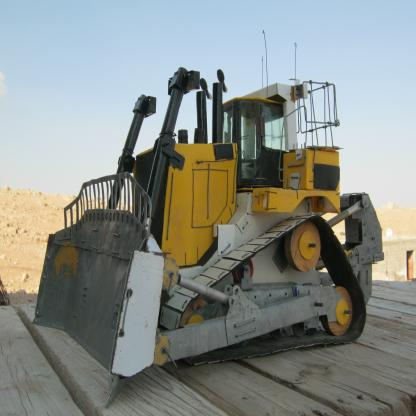bull_dozer/loader/grader: (29, 48, 393, 383)
